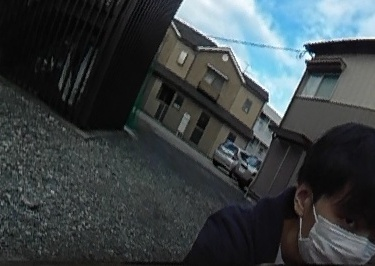person: (169, 130, 375, 266)
